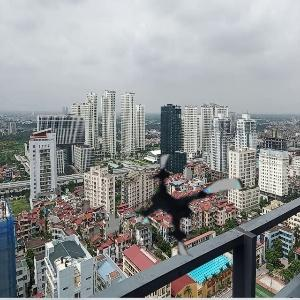drone: (132, 146, 249, 263)
